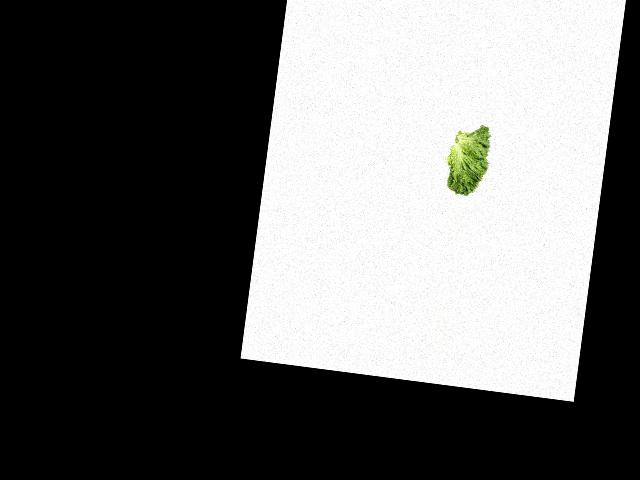lettuce: (439, 121, 499, 199)
